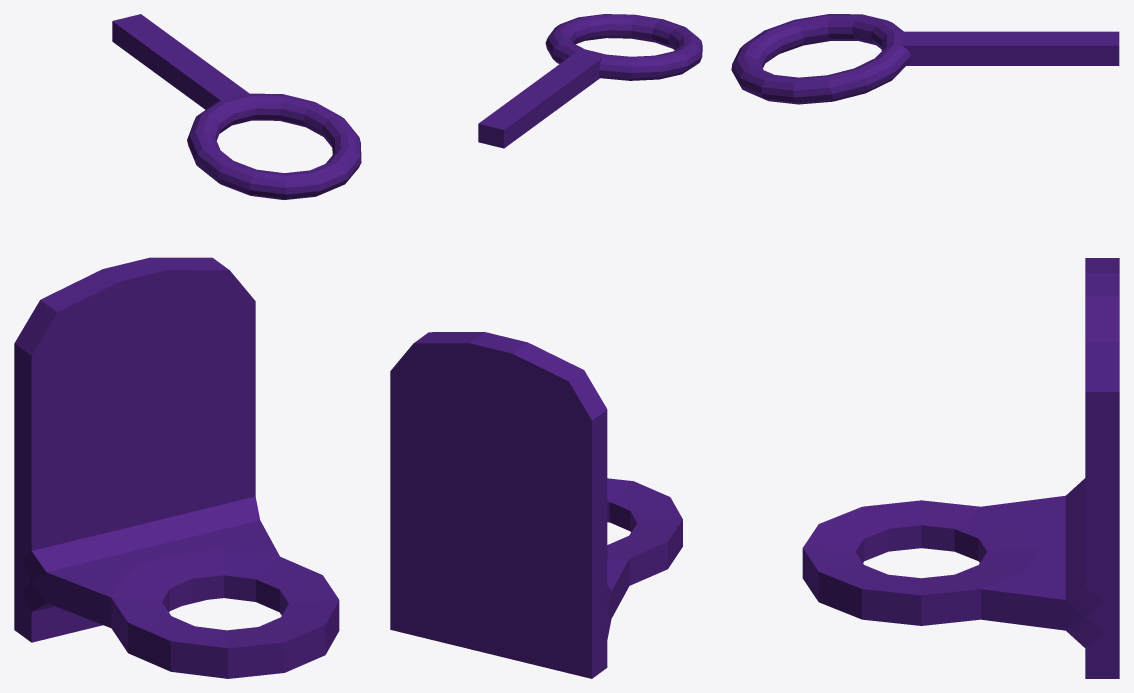
The model's file is torchHolder_001_grp.fbx.
3 views of the same model, side by side, from view 1: azimuth 30°, elevation 25°; view 2: azimuth 150°, elevation 25°; view 3: azimuth 270°, elevation 25° (orthographic). The views are drawn at different scales.
Parts seen in each view (by area): view 1: torchHolder_001_grp; view 2: torchHolder_001_grp; view 3: torchHolder_001_grp.
Part boxes in pixels (bbox=[...]): torchHolder_001_grp: bbox=[14, 14, 361, 678]; torchHolder_001_grp: bbox=[390, 14, 702, 678]; torchHolder_001_grp: bbox=[731, 14, 1119, 678].
Size of the model in its own units: 20 by 50 by 30.
